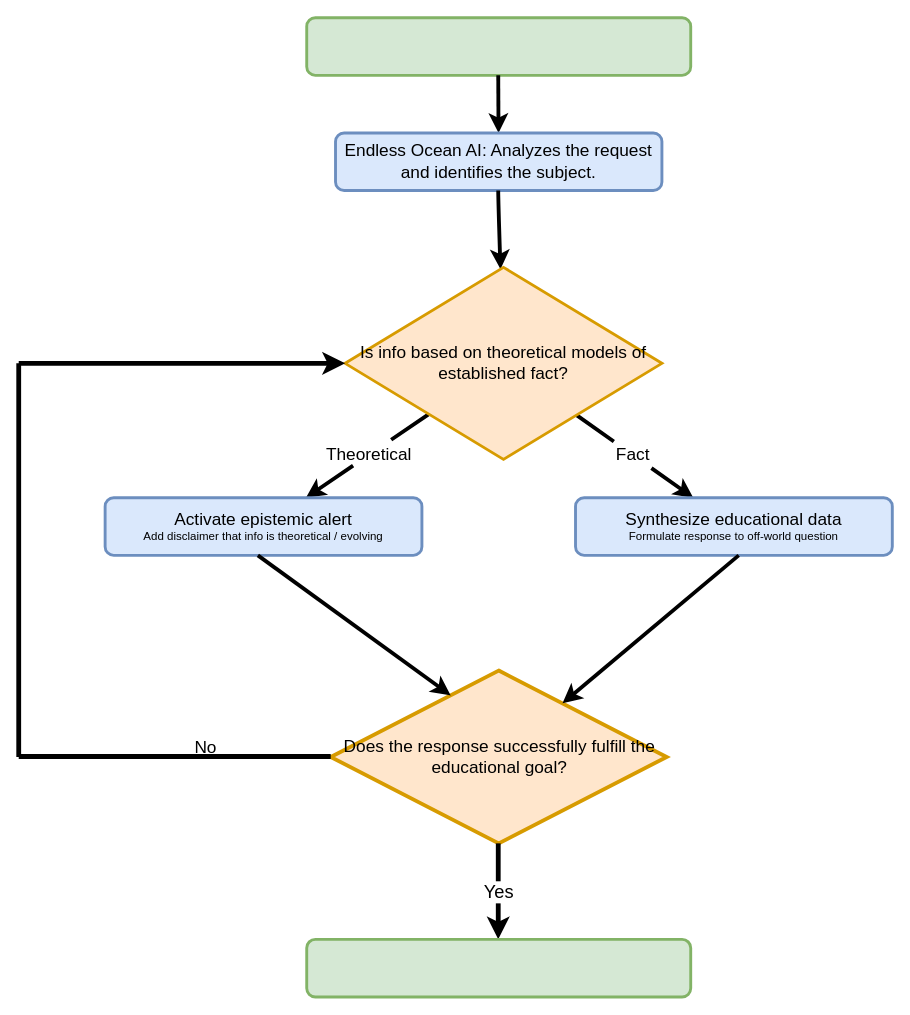
Image size: 910x1015. Some labels were removed from this diagram. Here are the shapes that lost their labels. From the top down, the centre of each, then its label:
At [498,46]: "Start: User asks a Space Related Question".
At [498,967]: "End: Display educational response aand end interaction.".
